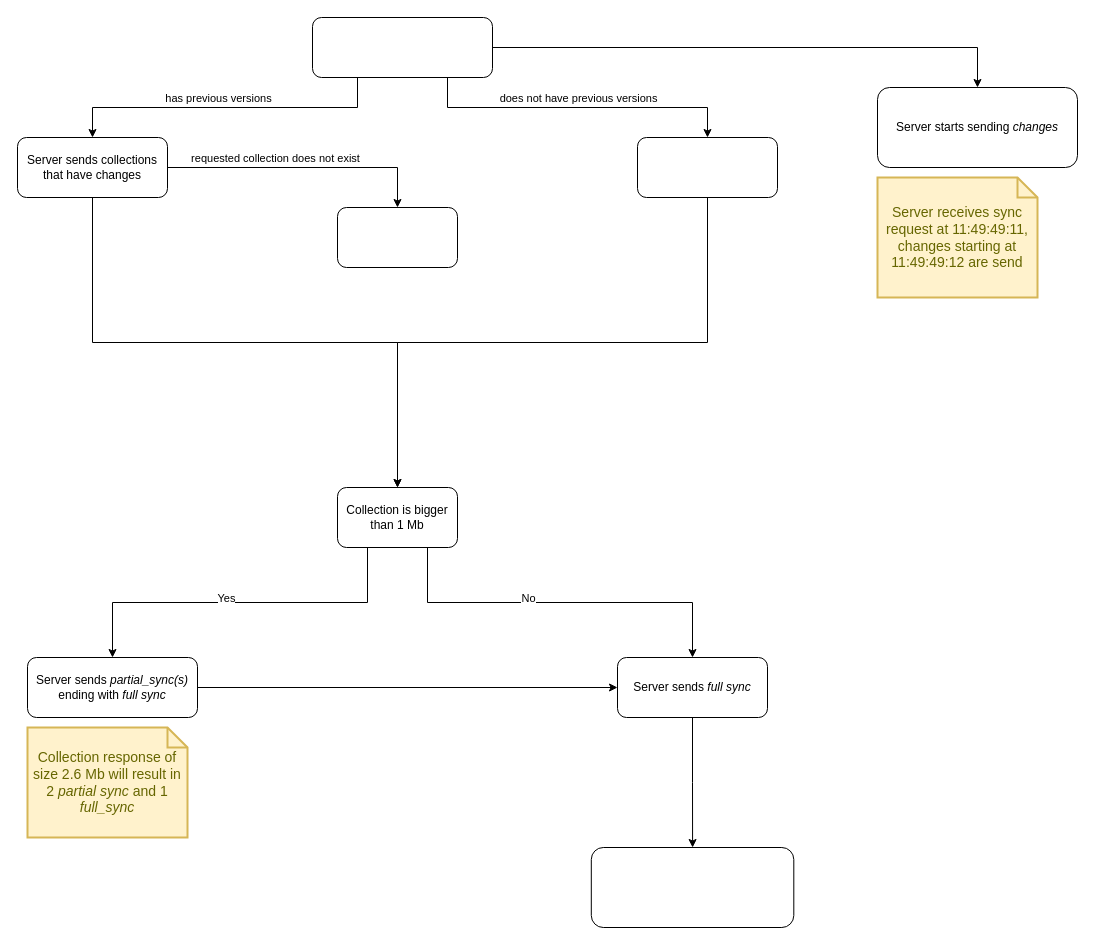
The diagram is 1095 pixels wide and 945 high, and some of its shapes have lost their labels. Here are the shapes that lost their labels. From the top down, the centre of each, then its label:
(402,47): Client sends sync request
(707,167): Server sends all collections
(397,237): Server sends remove_collection
(692,887): Clients saves the response version which will be used on the next sync request
